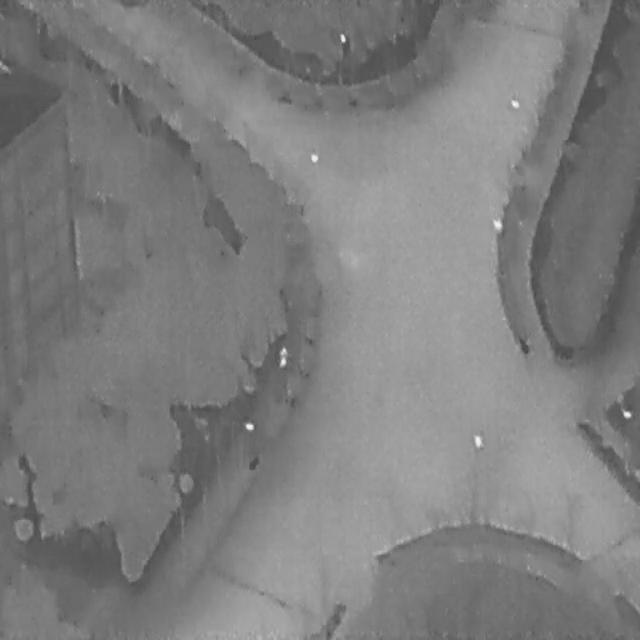Person: (278, 345, 288, 369)
